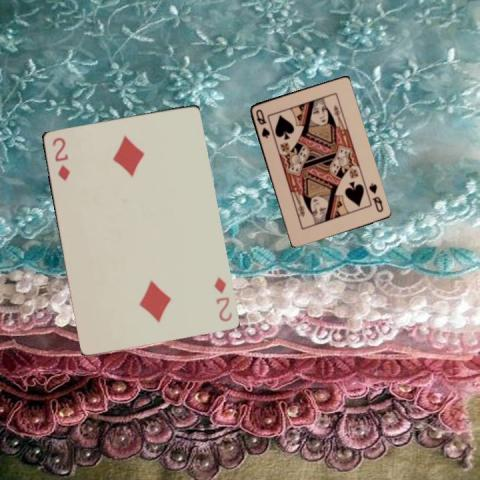2d: (211, 274, 233, 323), (49, 134, 71, 182)
Qs: (365, 181, 385, 213), (253, 106, 271, 139)
